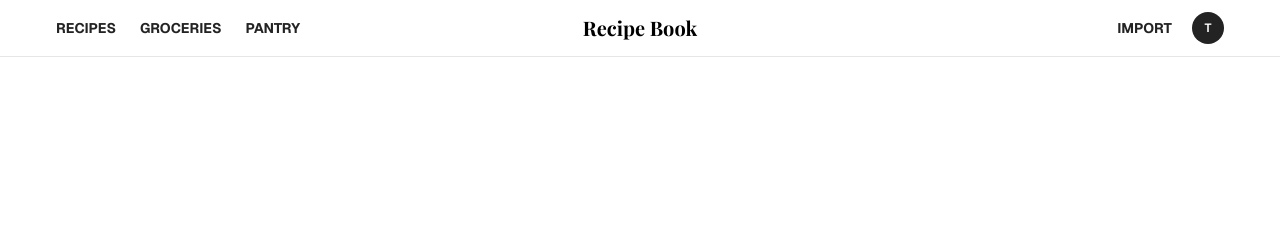
Test: Navbar › opens dropdown menu on avatar click
This screenshot has width=1280, height=228.
Click the button named "User menu": (1208, 28) [1192, 12, 1224, 44]
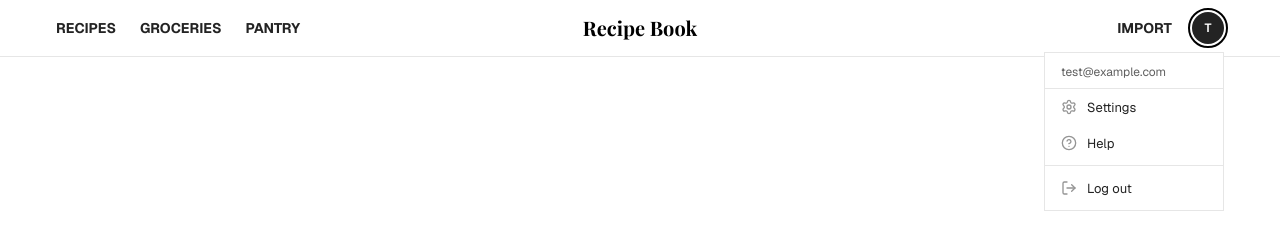
Check: the text "test@example.com" is shown, box [1061, 64, 1166, 80]
Check: the button "Settings" is shown, box [1045, 89, 1223, 125]
Check: the button "Log out" is shown, box [1045, 170, 1223, 206]
